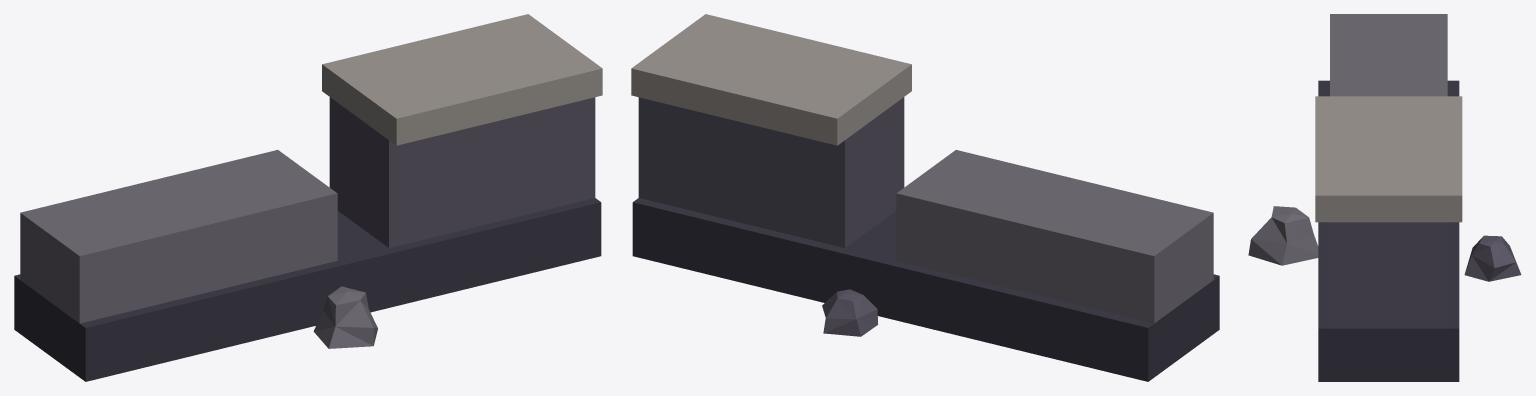
The model's file is wall_low_ruined.fbx.
The picture shows the model from 3 angles, left to right: view 1: azimuth 30°, elevation 25°; view 2: azimuth 150°, elevation 25°; view 3: azimuth 270°, elevation 25°; orthographic projection.
Visible parts, largest first — view 1: wall_low_ruined; view 2: wall_low_ruined; view 3: wall_low_ruined.
Boxes of the visible parts, bbox=[...] form: wall_low_ruined: bbox=[14, 14, 602, 381]; wall_low_ruined: bbox=[631, 14, 1219, 381]; wall_low_ruined: bbox=[1248, 14, 1521, 381].
Size of the model in its own units: 4 by 1.4 by 1.86.
